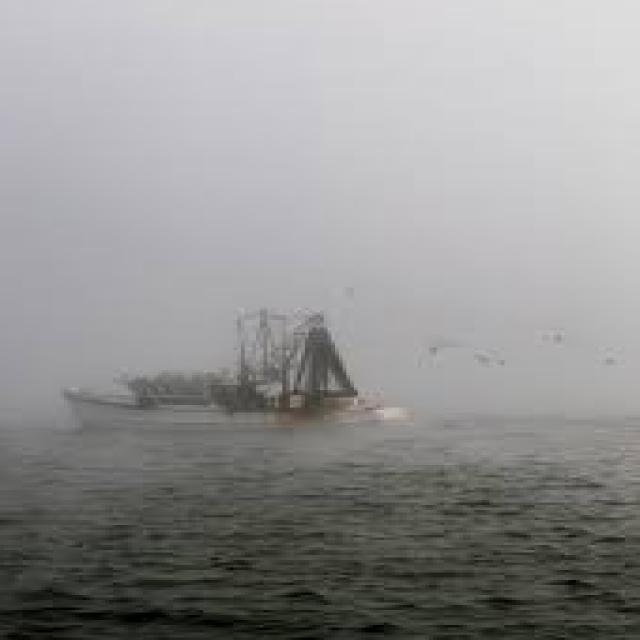fishing boat: (60, 302, 408, 432)
